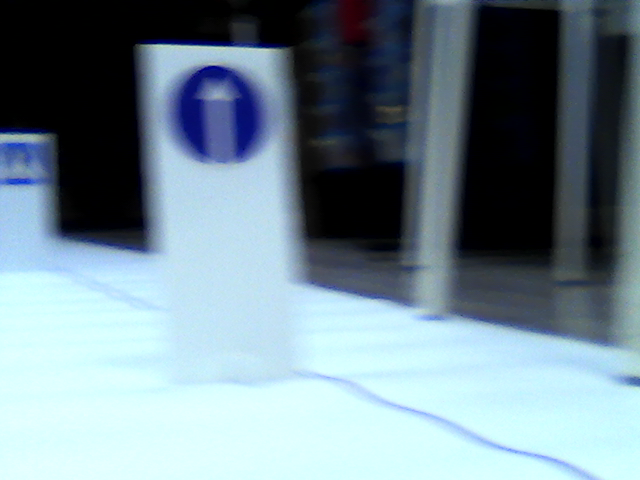forw: (174, 63, 270, 169)
